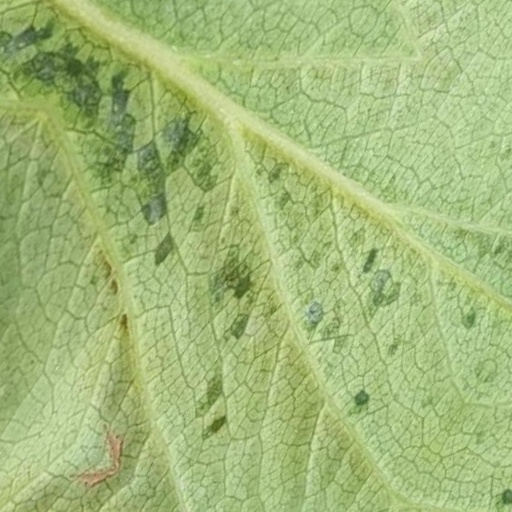Angular Leafspot: (18, 65, 511, 362)
